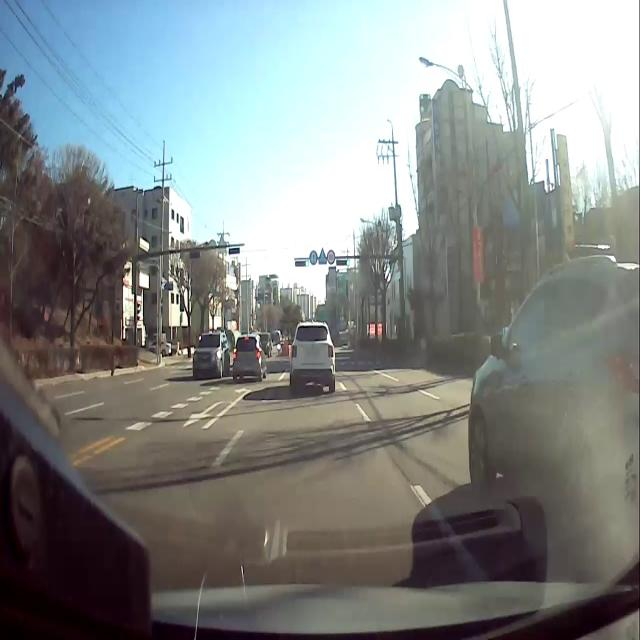Green Light: (305, 260, 309, 267), (346, 259, 350, 266)
